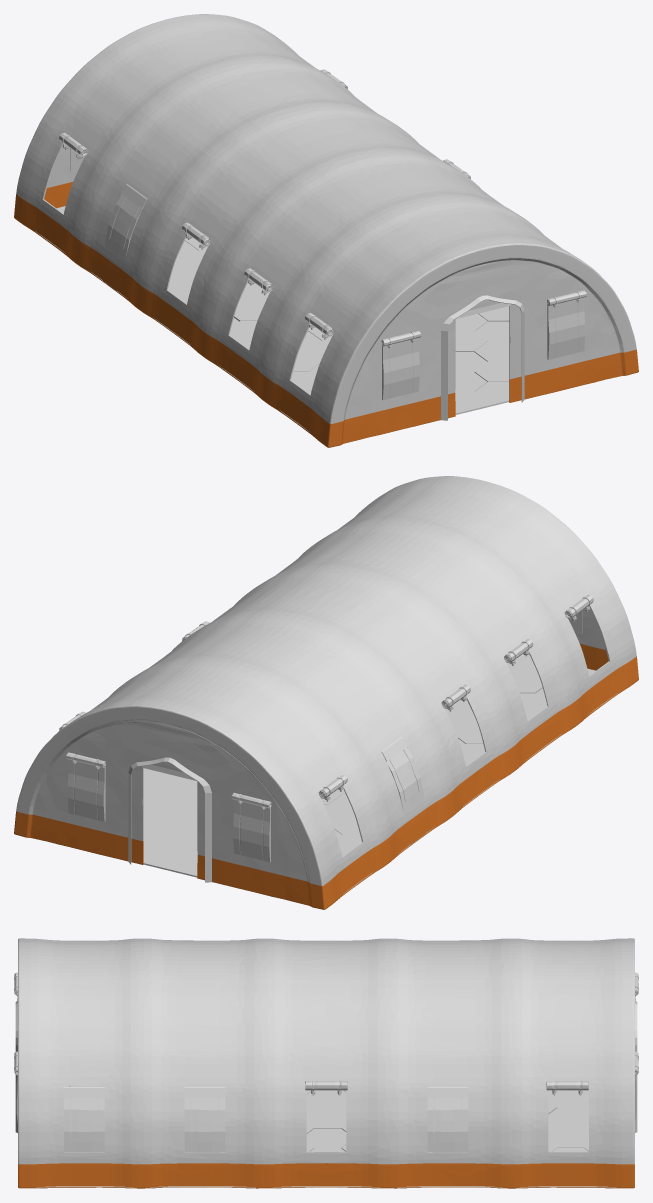
File: SM_Medical_Tent.glb
3 views of the same model, one above another, from view 1: azimuth 30°, elevation 25°; view 2: azimuth 150°, elevation 25°; view 3: azimuth 270°, elevation 25° (orthographic).
Visible parts, largest first — view 1: SM_Medical_Tent; view 2: SM_Medical_Tent; view 3: SM_Medical_Tent.
Part boxes in pixels (x1=…): SM_Medical_Tent: x1=14, y1=14, x2=638, y2=447; SM_Medical_Tent: x1=14, y1=476, x2=638, y2=909; SM_Medical_Tent: x1=14, y1=938, x2=638, y2=1188.
Bounding box in the file's own units: 7.99 × 3.98 × 14.17.
